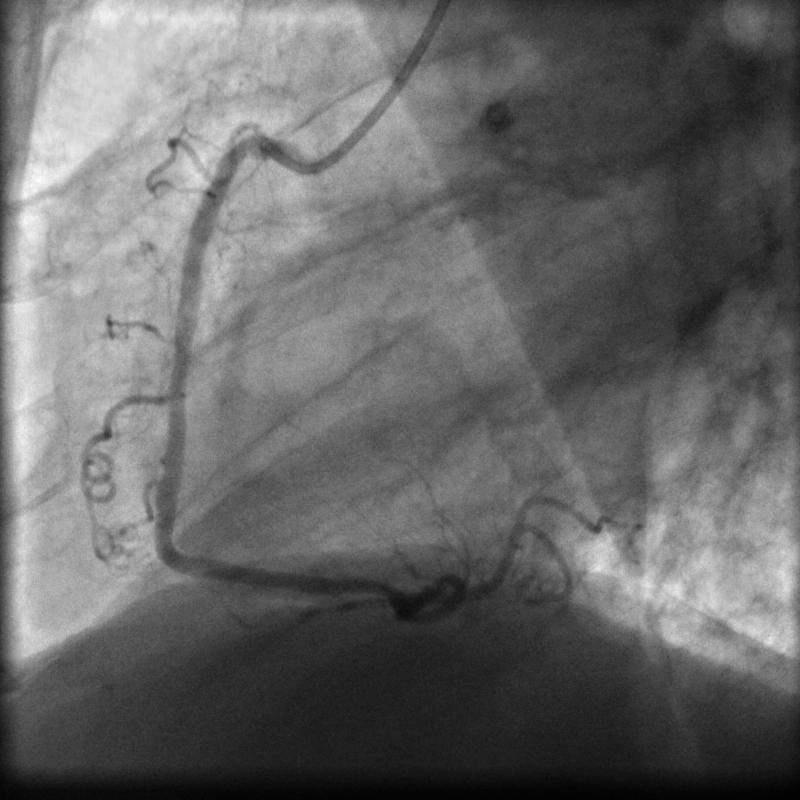Stenosis: (343, 566, 399, 615)
